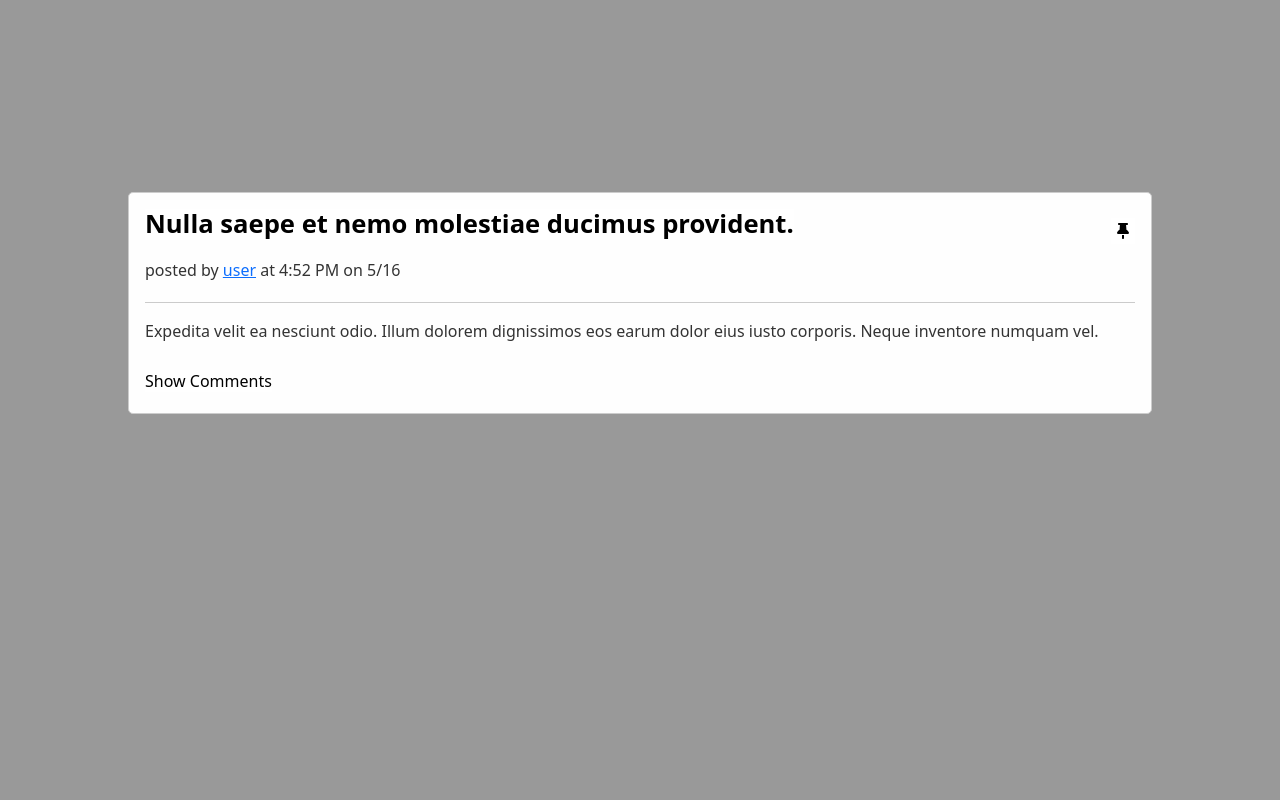
Test: PostDisplay › should render PostDisplay Comments with post
Click the text "Show Comments".
click(208, 381)  # box [145,370,272,392]
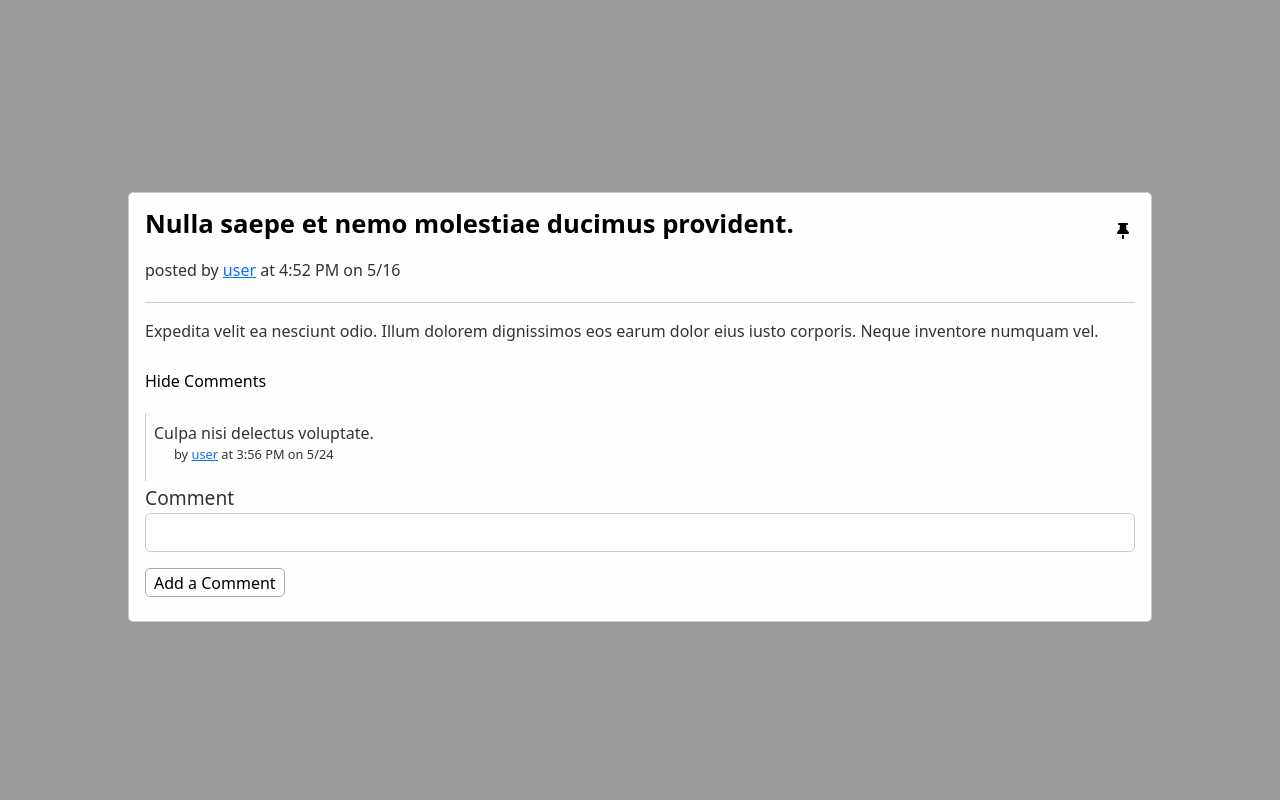
expect the text "Hide Comments" is shown: met, box [145,370,266,392]
expect the text "Culpa nisi delectus voluptate." is shown: met, box [154,422,374,444]
